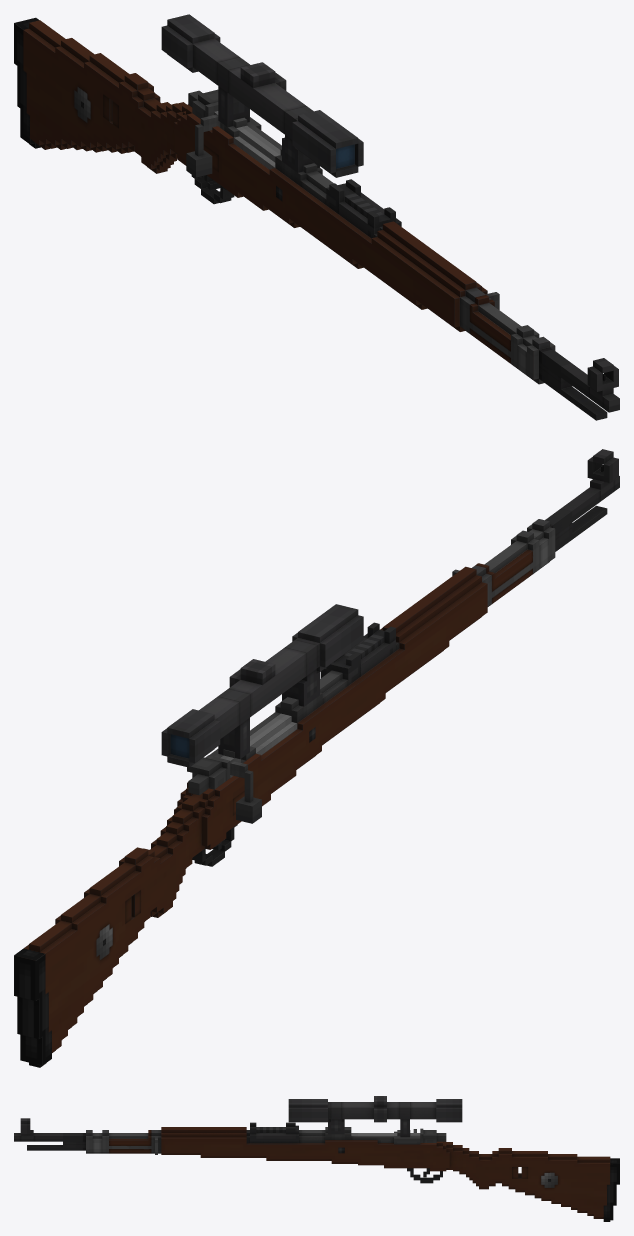
Rendered from RD_KAR98K.glb.
3 renders of one model, top to bottom at view 1: azimuth 30°, elevation 25°; view 2: azimuth 150°, elevation 25°; view 3: azimuth 270°, elevation 25°, orthographic. The views are drawn at different scales.
Parts seen in each view (by area): view 1: KAR98K, KAR98K_SCOPE, KAR98K_BOLTP2, KAR98K_BOLTP1; view 2: KAR98K, KAR98K_SCOPE, KAR98K_BOLTP2, KAR98K_BOLTP1; view 3: KAR98K, KAR98K_SCOPE, KAR98K_BOLTP1.
Part boxes in pixels (x1=…): KAR98K: x1=14, y1=17, x2=619, y2=420; KAR98K_SCOPE: x1=161, y1=14, x2=363, y2=177; KAR98K_BOLTP2: x1=186, y1=111, x2=280, y2=177; KAR98K_BOLTP1: x1=188, y1=89, x2=275, y2=169; KAR98K: x1=14, y1=449, x2=619, y2=1067; KAR98K_SCOPE: x1=161, y1=604, x2=363, y2=767; KAR98K_BOLTP2: x1=220, y1=713, x2=291, y2=823; KAR98K_BOLTP1: x1=187, y1=722, x2=297, y2=795; KAR98K: x1=14, y1=1118, x2=619, y2=1221; KAR98K_SCOPE: x1=288, y1=1096, x2=462, y2=1137; KAR98K_BOLTP1: x1=420, y1=1128, x2=446, y2=1142.
Bounding box in the file's own units: 0.0984 × 0.4035 × 1.82.
1 material, 1 textured.
